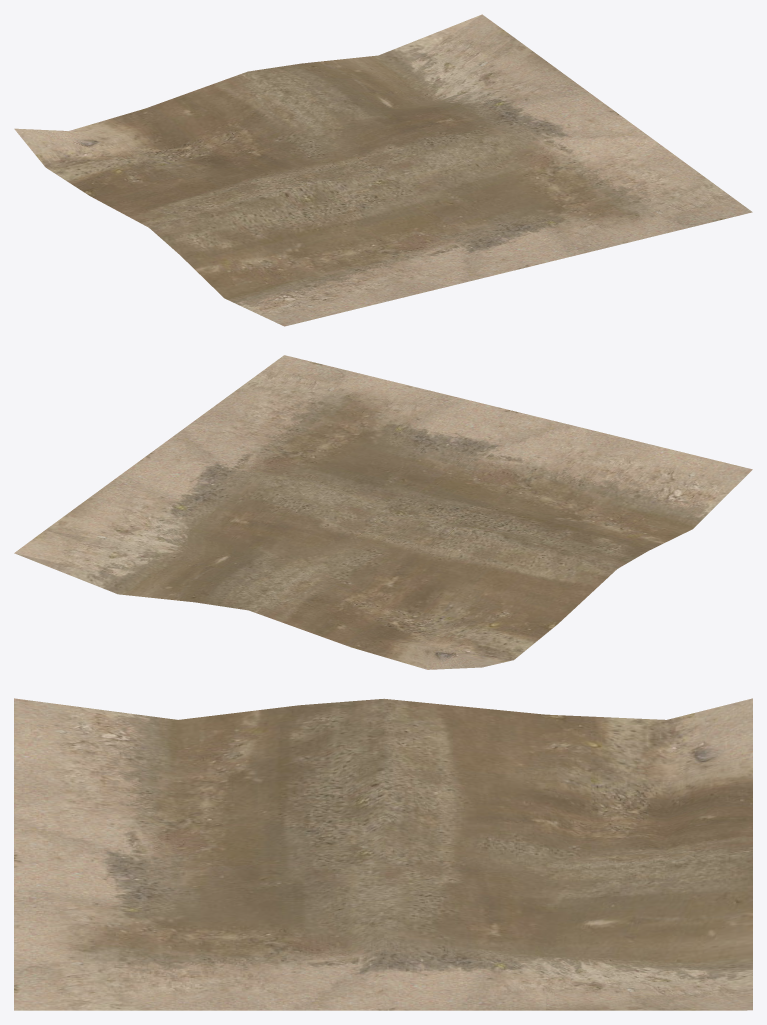
The model's file is roadbend.DAE.
The picture shows the model from 3 angles, top to bottom: view 1: azimuth 30°, elevation 25°; view 2: azimuth 150°, elevation 25°; view 3: azimuth 270°, elevation 25°; orthographic projection. The views are drawn at different scales.
Parts seen in each view (by area): view 1: node_Object03; view 2: node_Object03; view 3: node_Object03.
Part boxes in pixels (x1=…): node_Object03: x1=14, y1=14, x2=752, y2=326; node_Object03: x1=14, y1=355, x2=752, y2=669; node_Object03: x1=14, y1=698, x2=752, y2=1010.
Size of the model in its own units: 5 by 5 by 0.2605.
